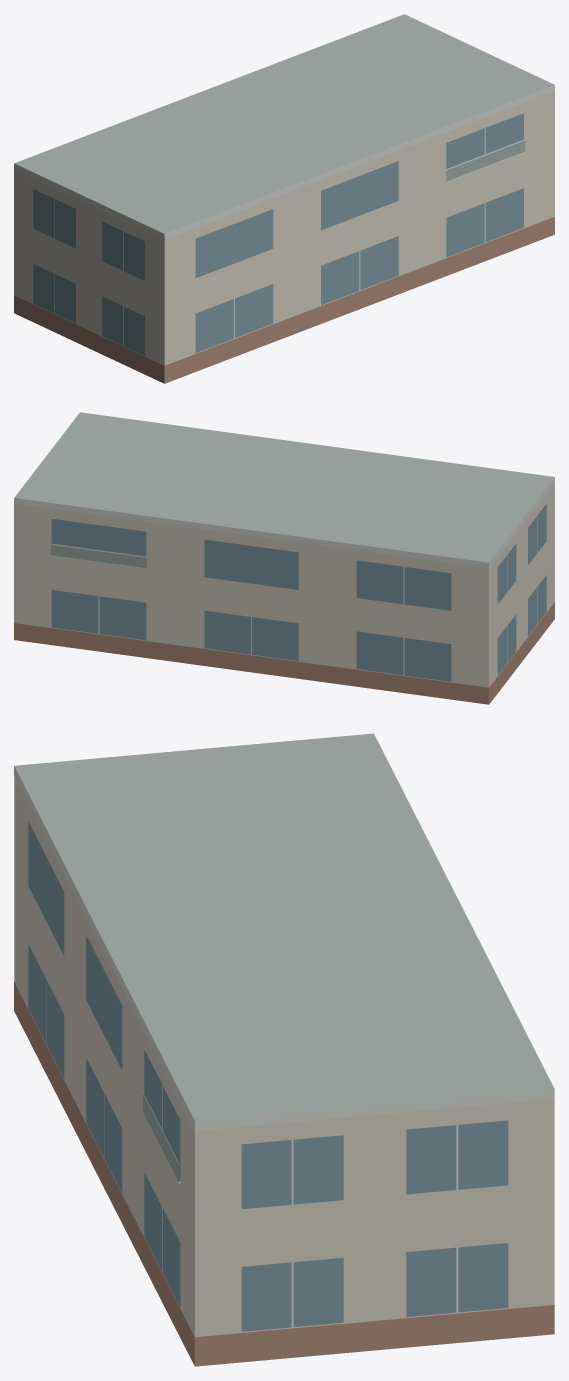
The model's file is survey-upis-32806699.glb.
3 renders of one model, top to bottom at view 1: azimuth 30°, elevation 25°; view 2: azimuth 150°, elevation 25°; view 3: azimuth 270°, elevation 25°, orthographic. The views are drawn at different scales.
Visible parts, largest first — view 1: survey-upis-32806699.tmp; view 2: survey-upis-32806699.tmp; view 3: survey-upis-32806699.tmp.
Part boxes in pixels (<box>): survey-upis-32806699.tmp: <box>14,14,554,383</box>; survey-upis-32806699.tmp: <box>14,412,554,704</box>; survey-upis-32806699.tmp: <box>14,733,554,1366</box>.
Bounding box in the file's own units: 20.72 × 6.1 × 12.2.
